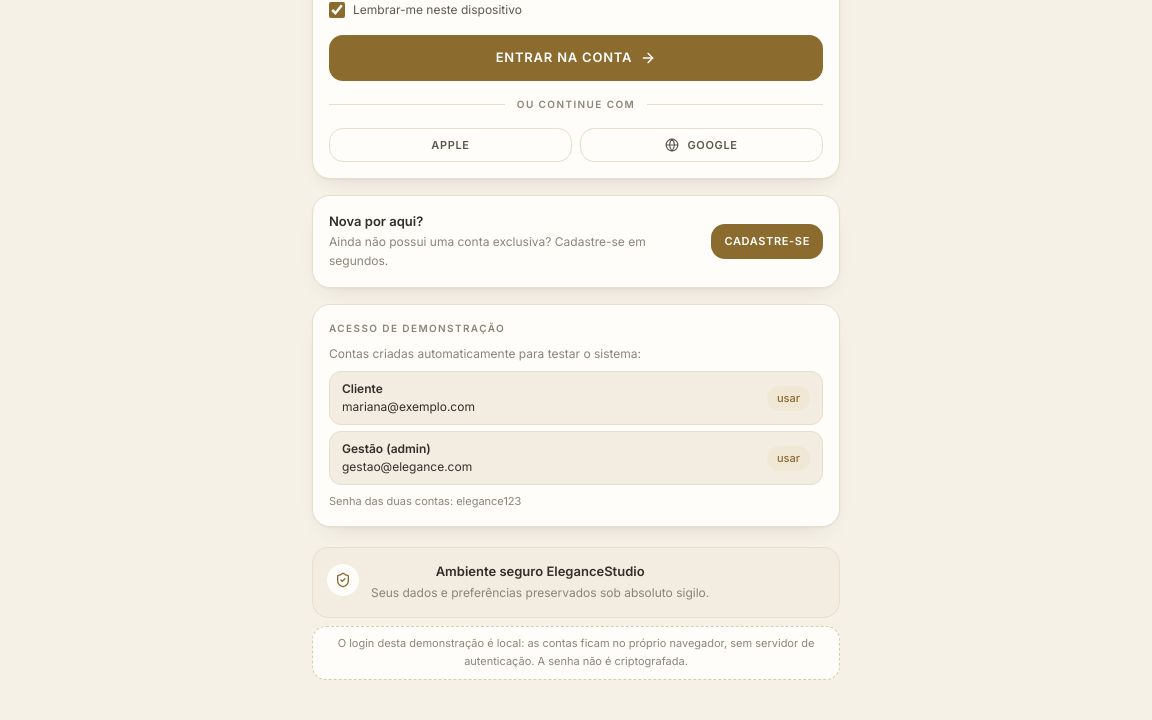
autenticação local › entra com a conta de demonstração e vê os próprios agendamentos
This screenshot has width=1152, height=720.
(page scrolled)
Step 1. Click the button "mariana@exemplo.com" → (362, 389), box 329,371 -> 823,425
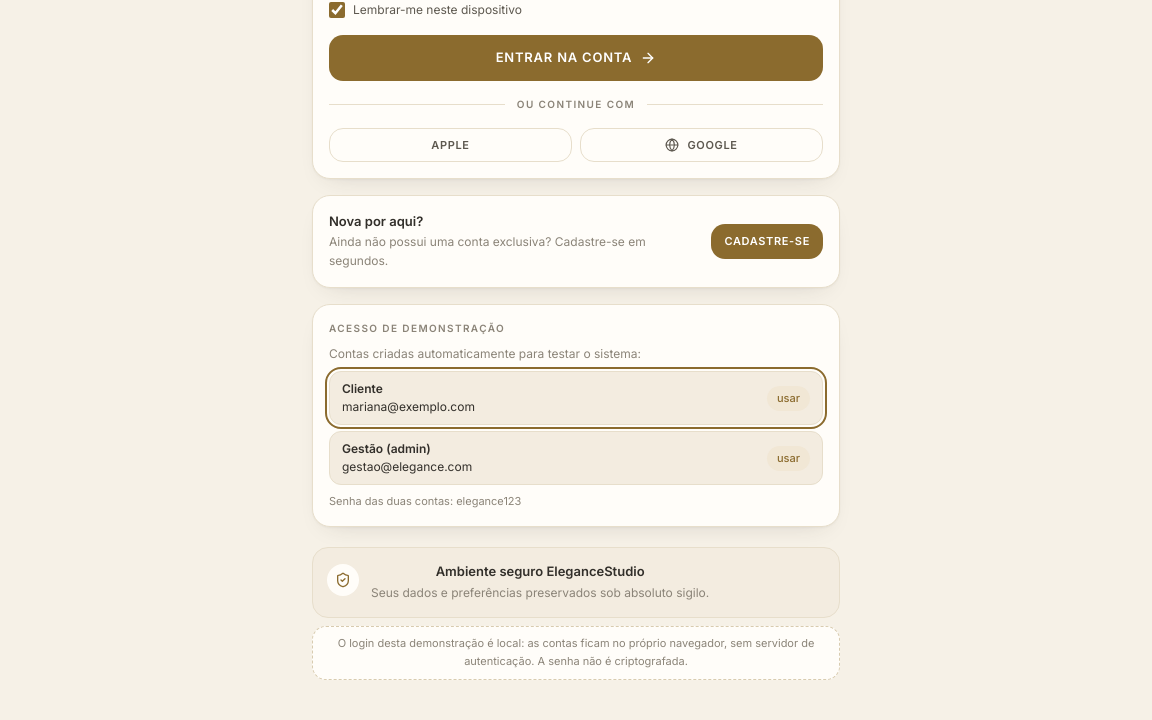
Step 2. Click the button "Entrar na conta" → (576, 58), box 329,35 -> 823,81
(page scrolled)
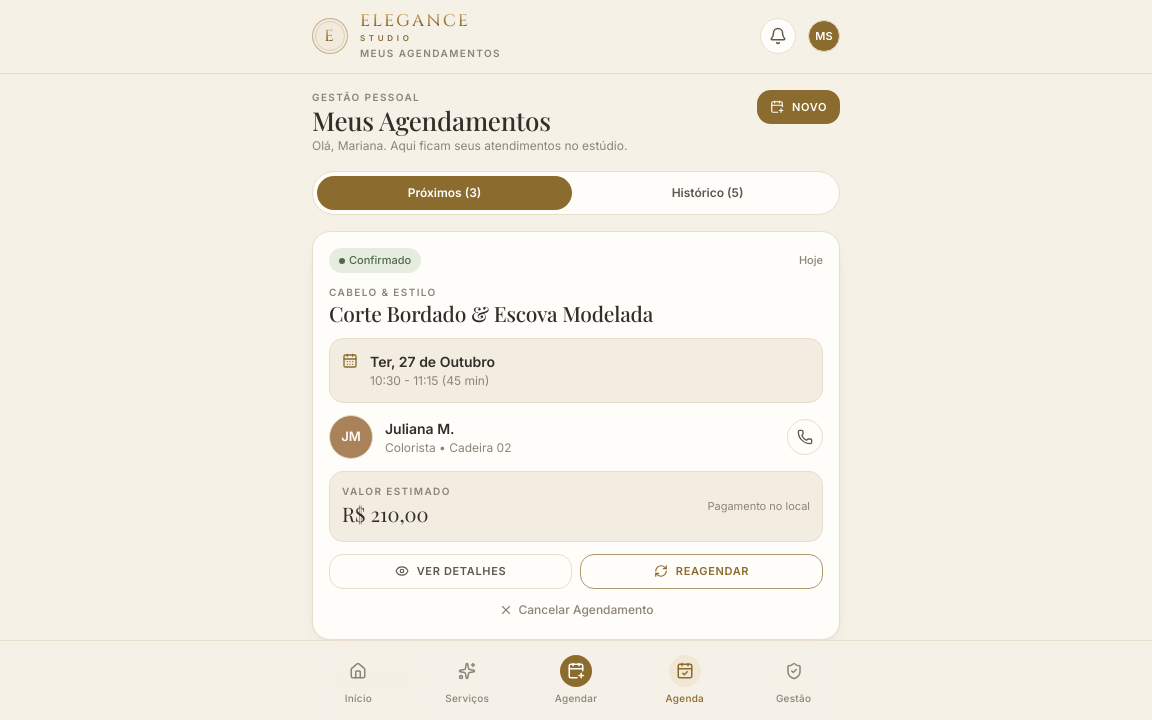
Result: the button "Próximos (3)" is shown at 317,176 -> 572,210
